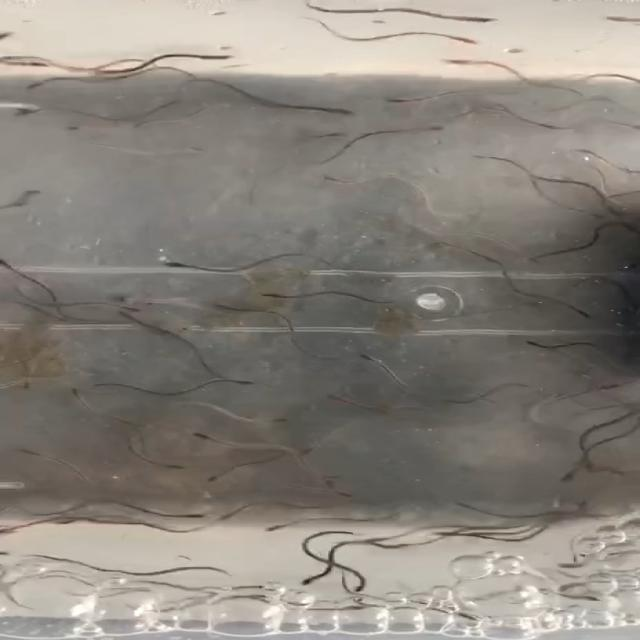active_glass_eel: (320, 99, 366, 122), (561, 585, 609, 606), (343, 344, 387, 366), (192, 463, 234, 486), (375, 92, 419, 113), (13, 444, 55, 466), (258, 282, 290, 309), (317, 169, 360, 189), (200, 48, 250, 64), (451, 8, 501, 23), (153, 253, 191, 272), (188, 429, 226, 448), (157, 458, 191, 479), (434, 52, 480, 67), (208, 298, 248, 315), (159, 508, 207, 522), (590, 12, 631, 28), (342, 580, 383, 596), (112, 295, 148, 313), (64, 383, 97, 402), (293, 571, 324, 591), (104, 310, 150, 322), (564, 304, 596, 321), (425, 118, 449, 140), (7, 374, 39, 390), (236, 376, 261, 395), (451, 33, 485, 46), (266, 521, 293, 536), (524, 333, 543, 352)
